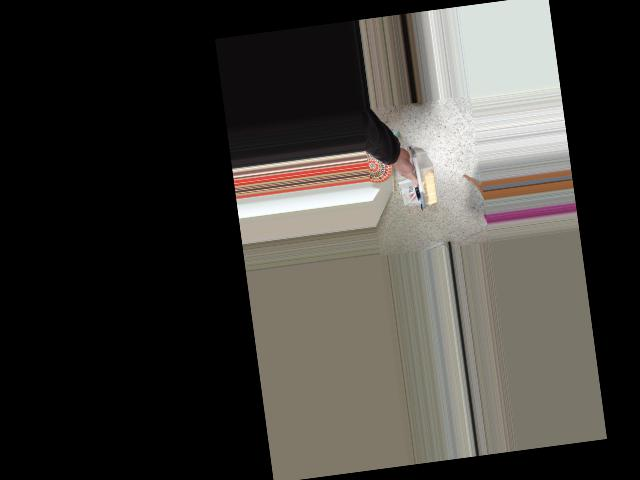cheese: (378, 131, 454, 208)
